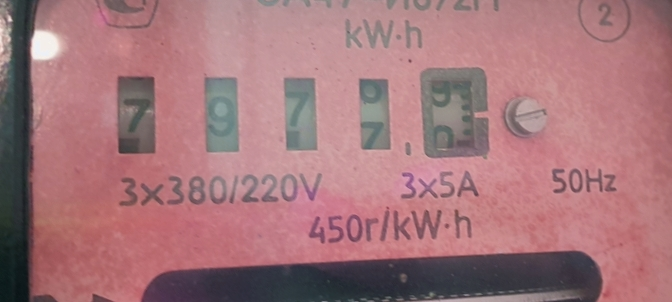0: (431, 122, 456, 152)
7: (119, 93, 155, 140), (358, 113, 390, 156), (284, 88, 315, 131)
9: (205, 93, 238, 142), (428, 78, 459, 112)
screen: (101, 44, 509, 193)
